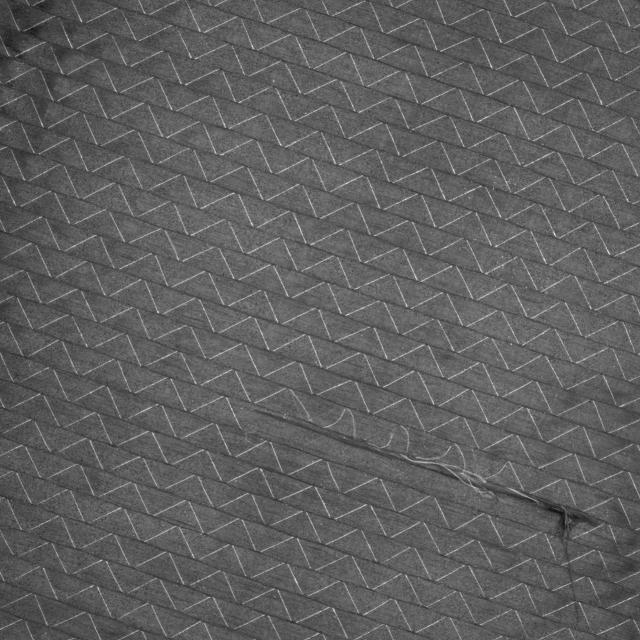carbon-fibre-defect: (351, 413, 620, 532)
